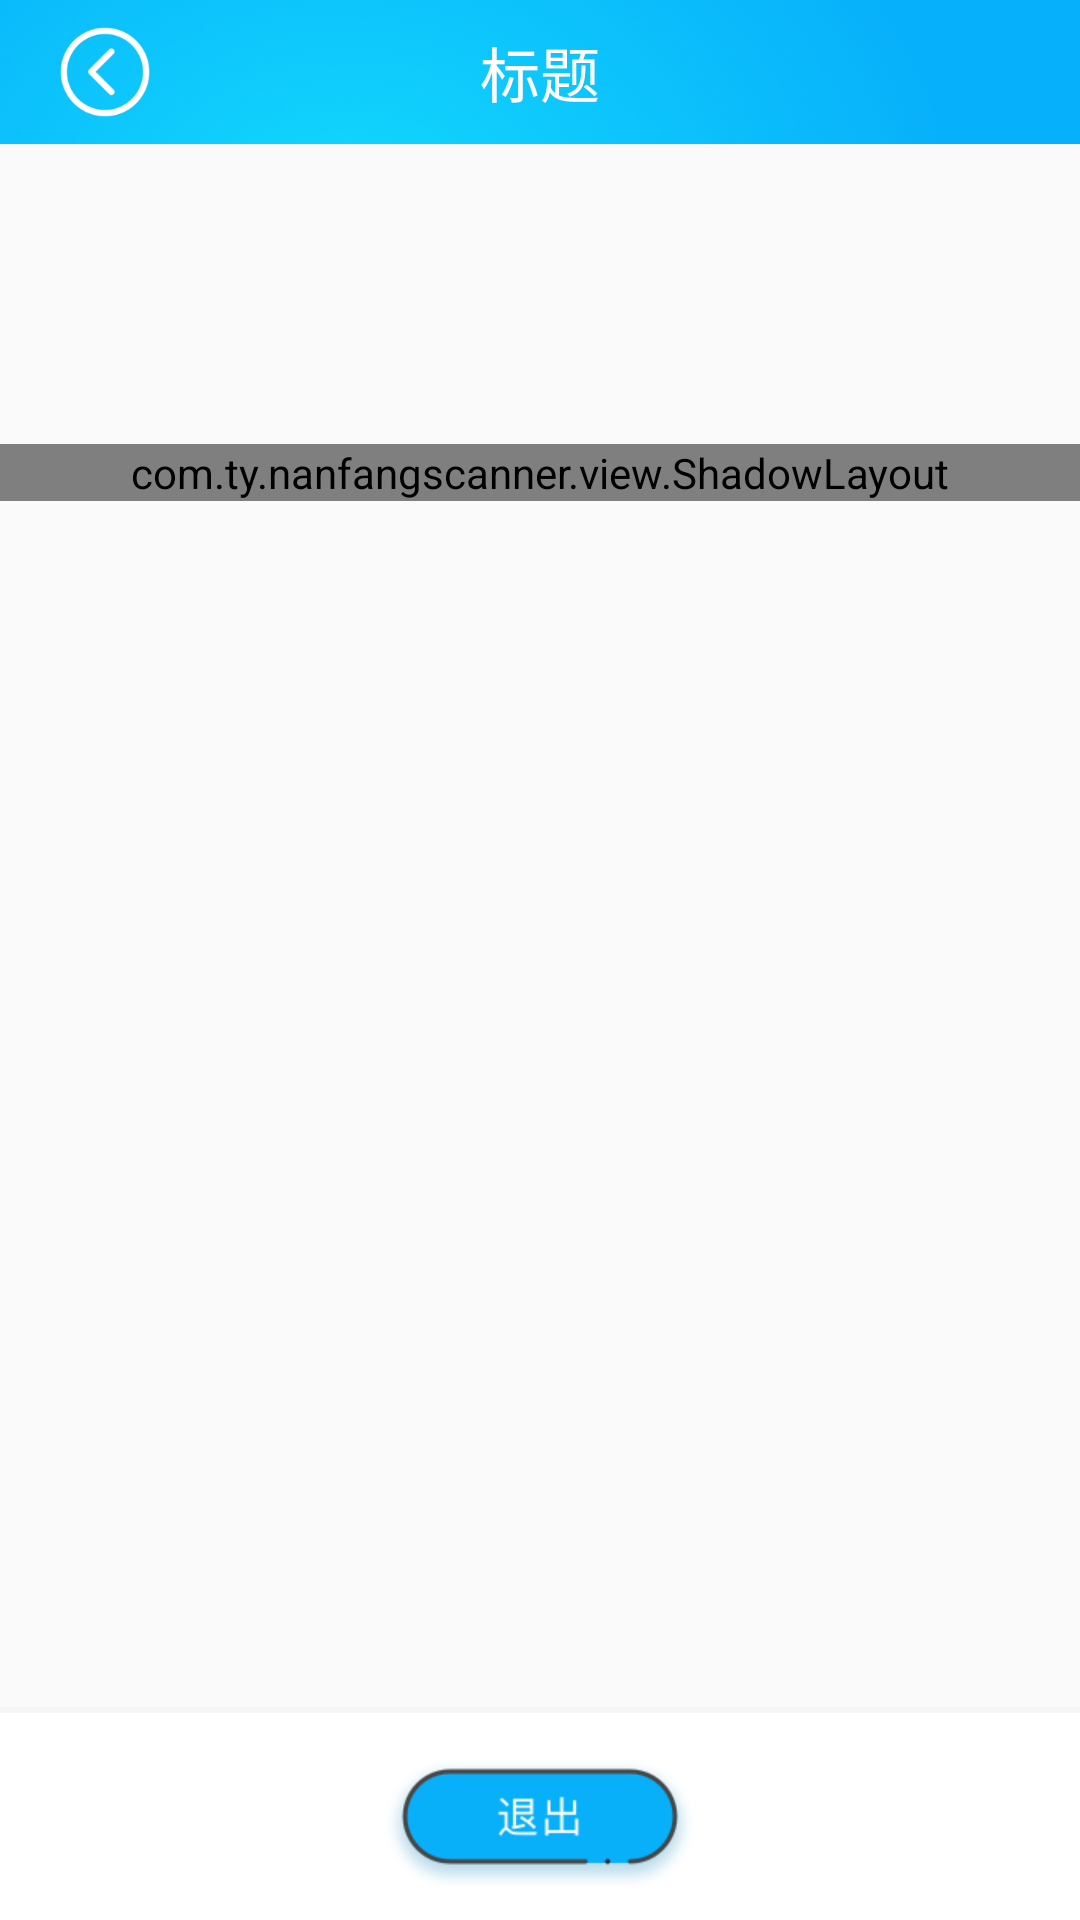

Screen size 1080x1920. Icon name, then its center in pixels as (x=x, y=y):
back: (x=105, y=72)
